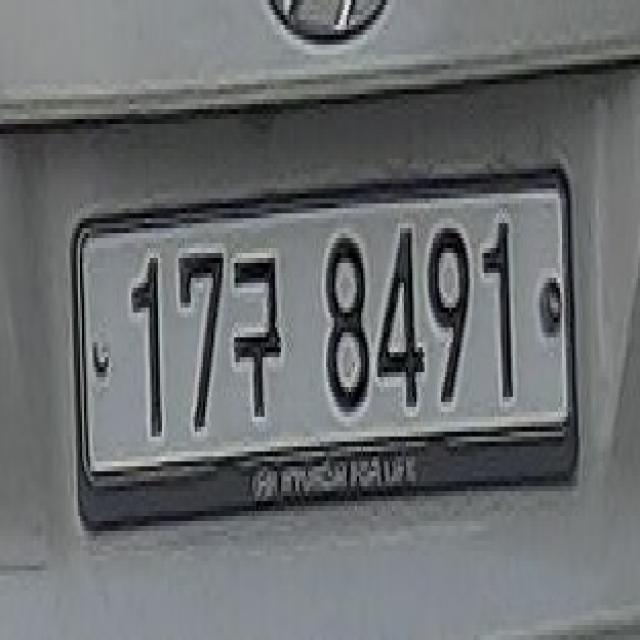1: (480, 203, 521, 417), (129, 243, 168, 457)
4: (373, 213, 425, 417)
7: (170, 233, 228, 447)
8: (318, 223, 371, 427)
9: (424, 208, 474, 417)
gu: (228, 238, 283, 442)
license_plate: (68, 149, 580, 546)
